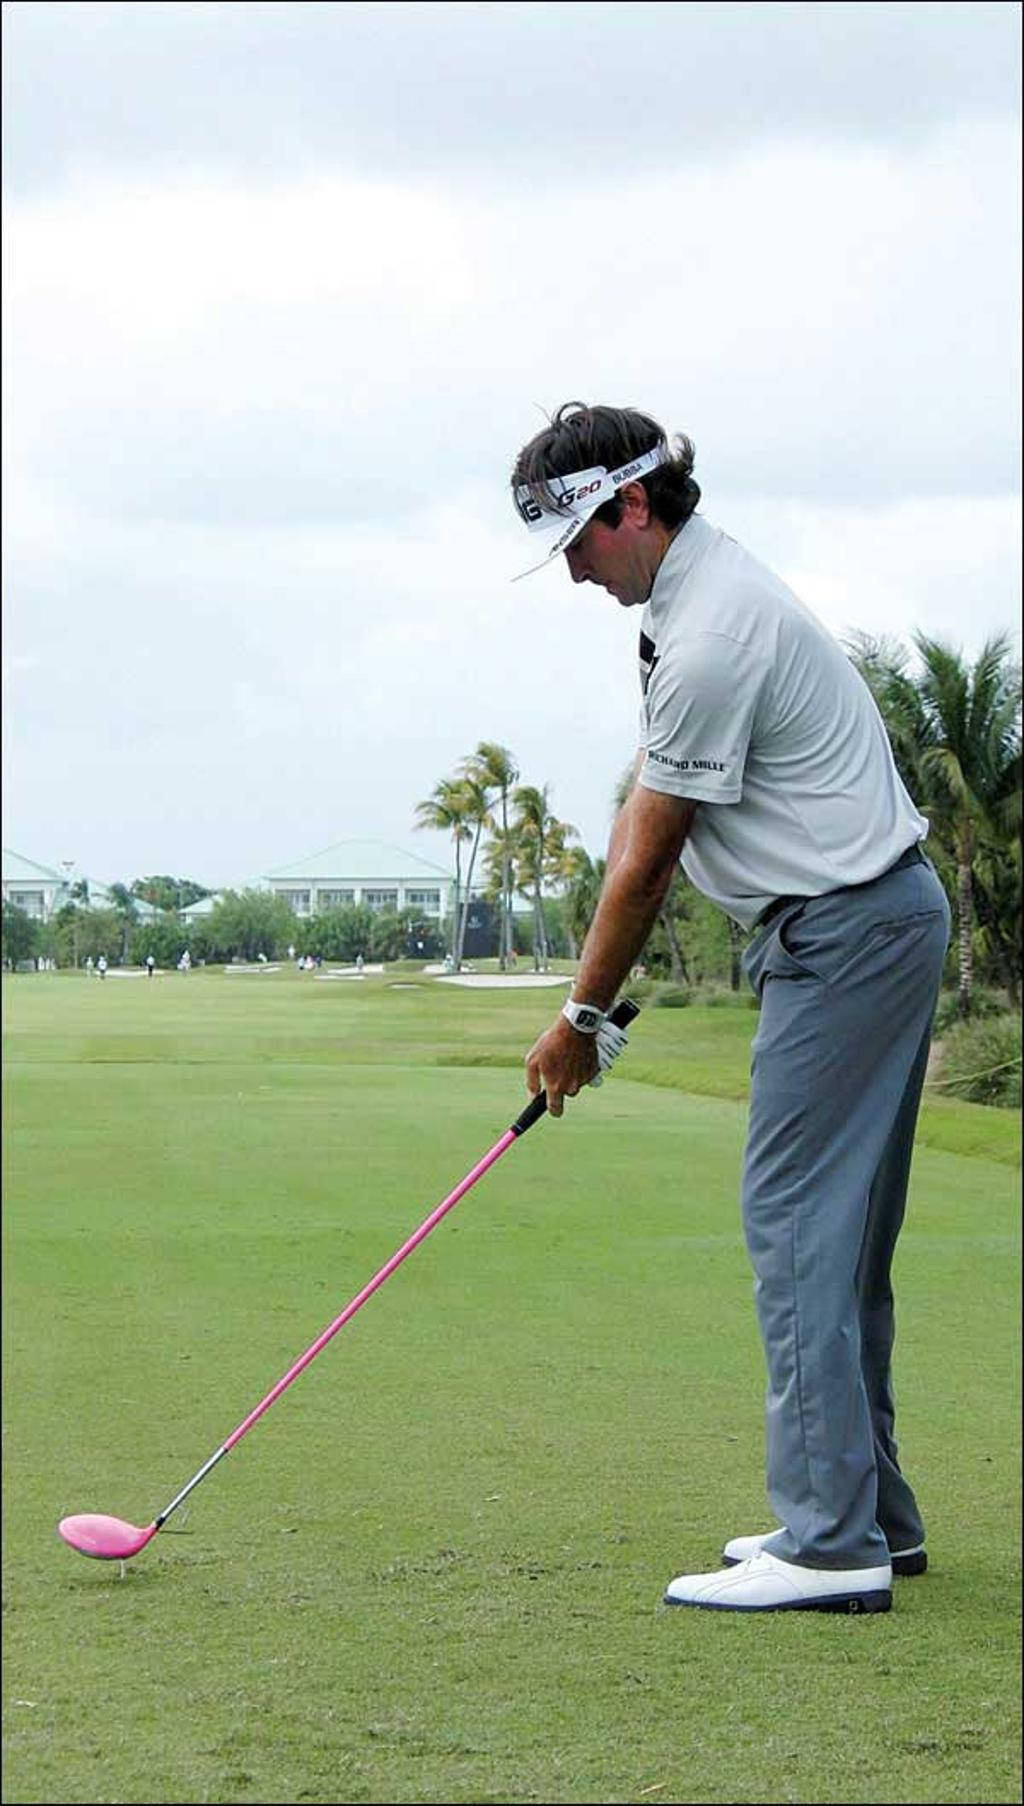face: (566, 485, 651, 616)
